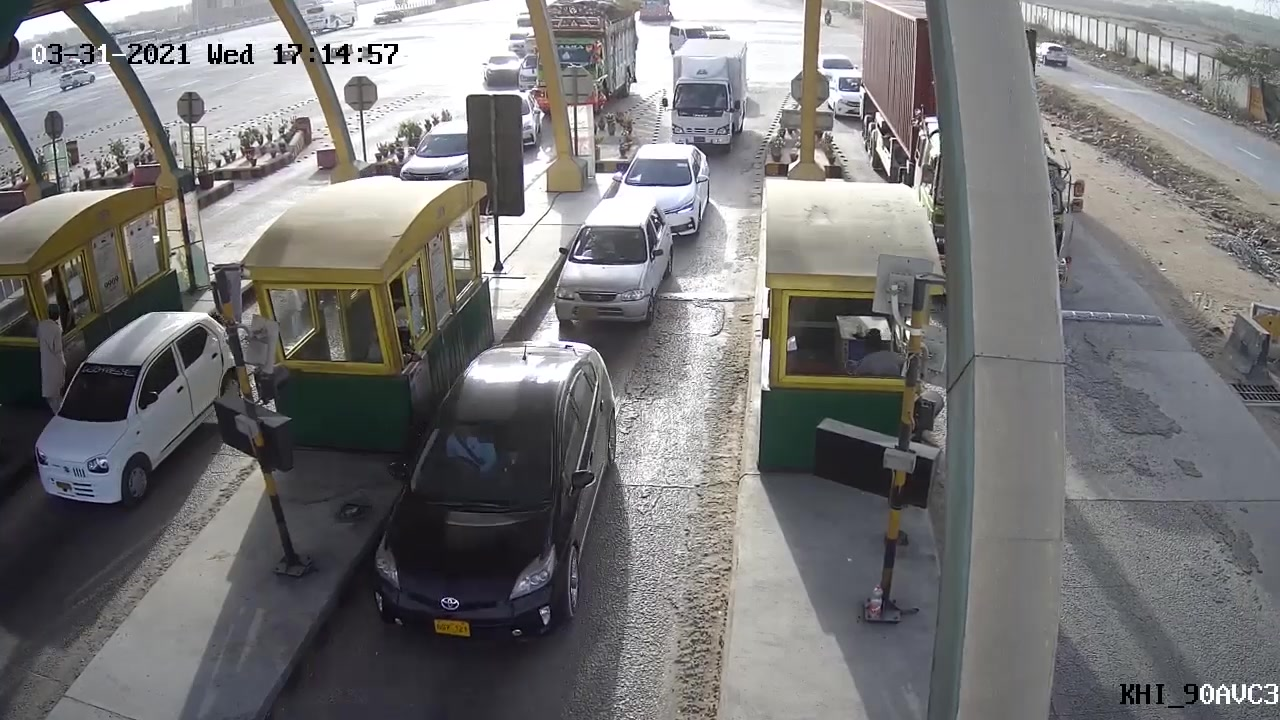F1: (369, 336, 631, 643), (535, 198, 677, 334)
